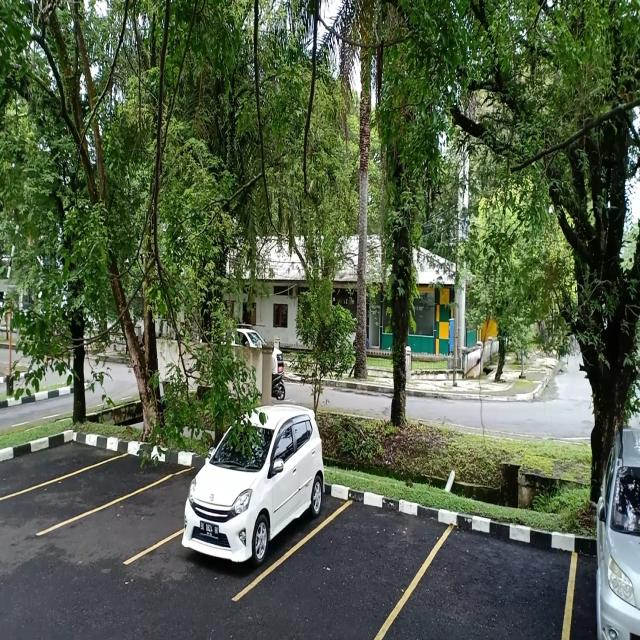empty: (414, 515, 575, 640), (293, 494, 417, 640), (98, 482, 186, 560), (48, 452, 142, 514)
occupied: (172, 444, 324, 594)
